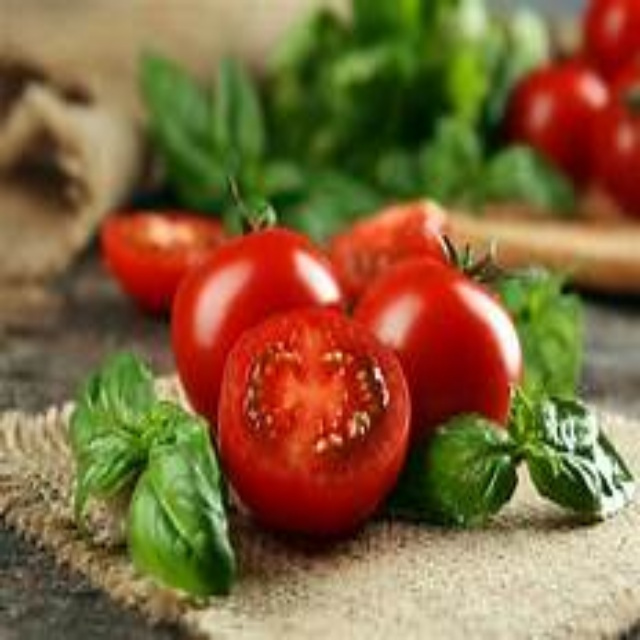tomato: (222, 314, 412, 527), (364, 255, 534, 435), (179, 235, 338, 415)
